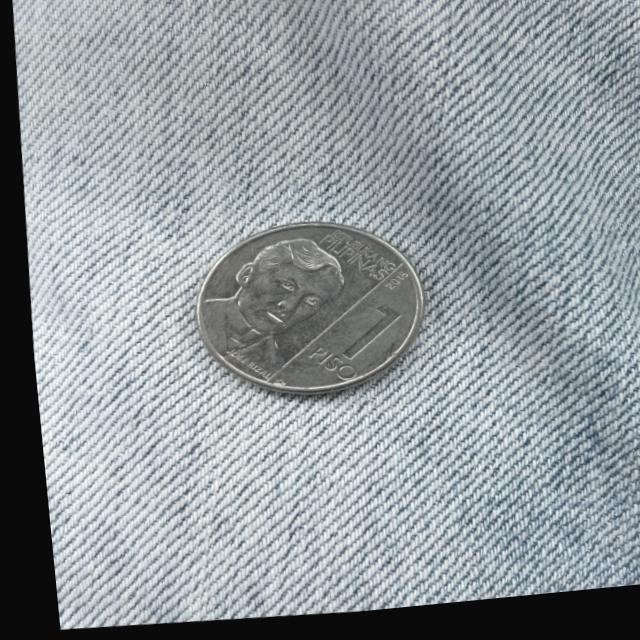1_New_Front: (289, 301, 394, 389)
